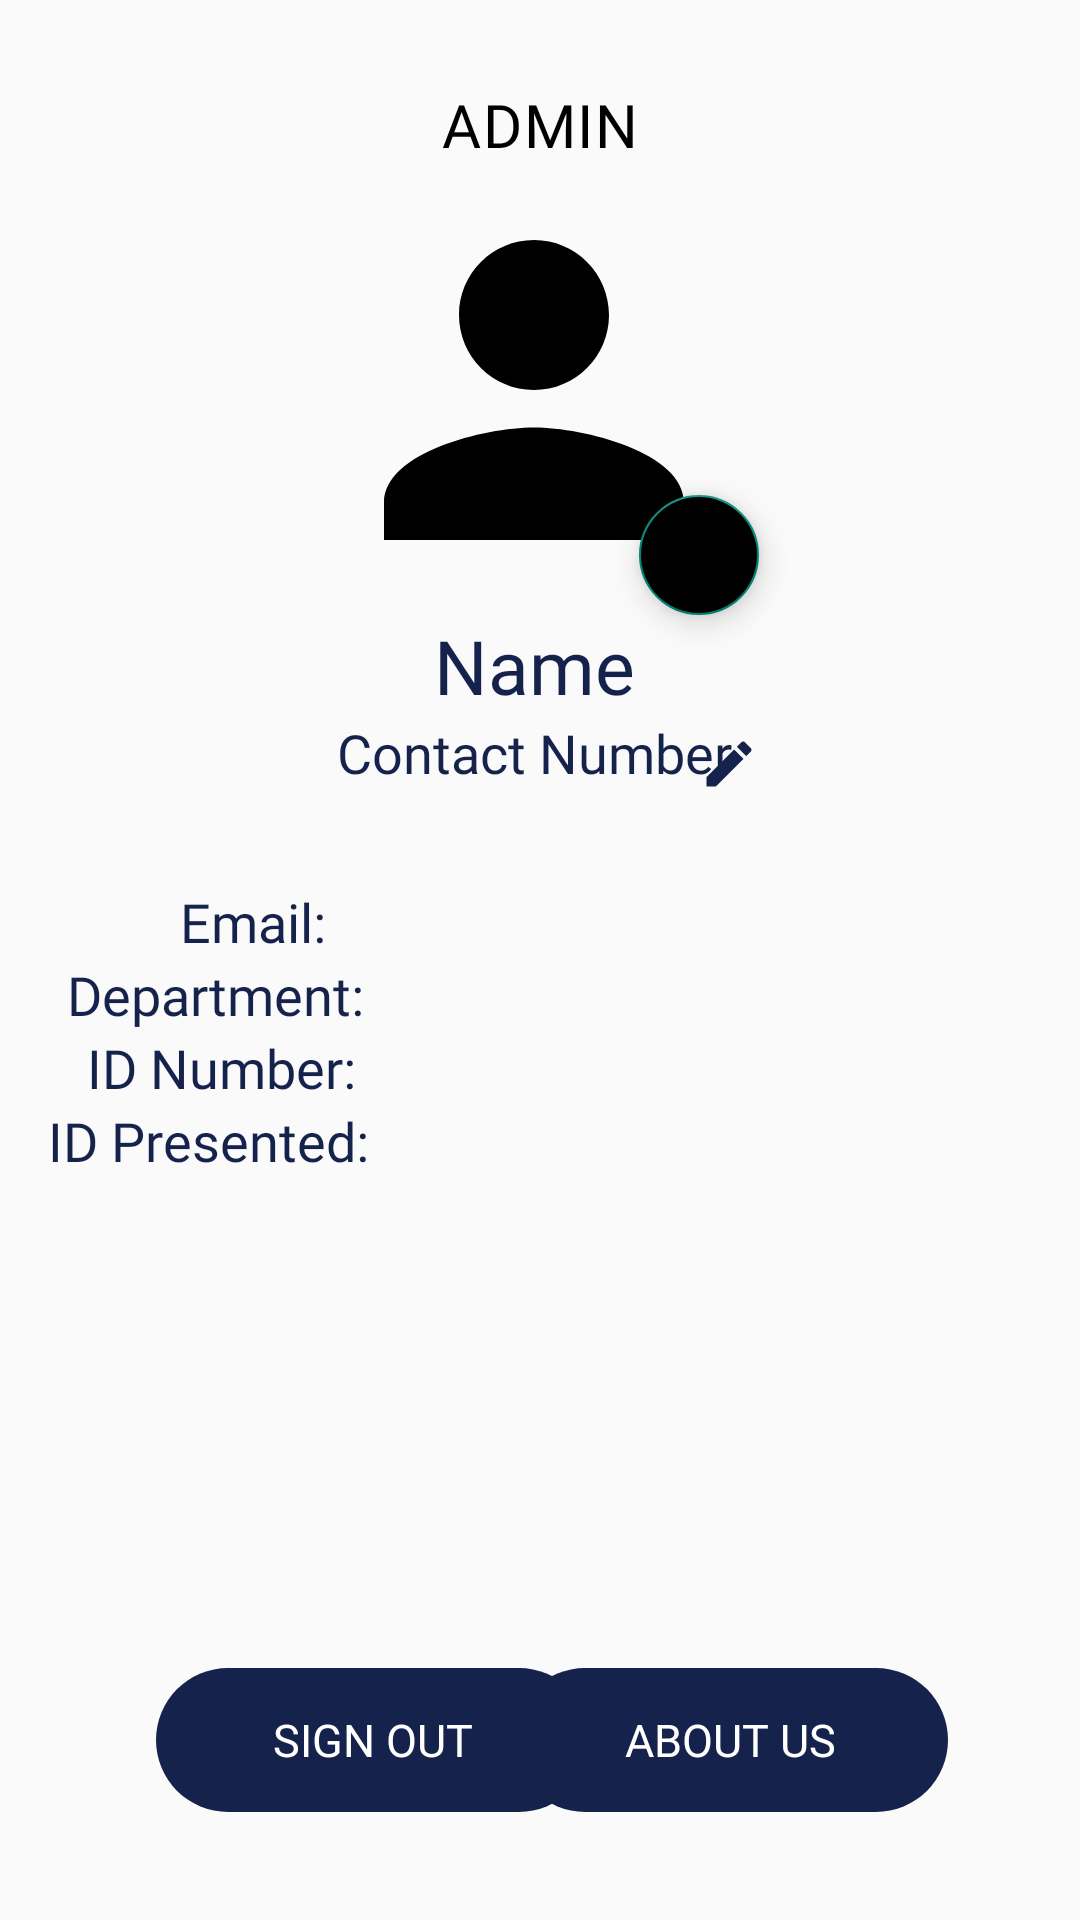

Where to tap for icons on this 1080px x 1920px app screen, as [x,y]:
edit: [729,764]
